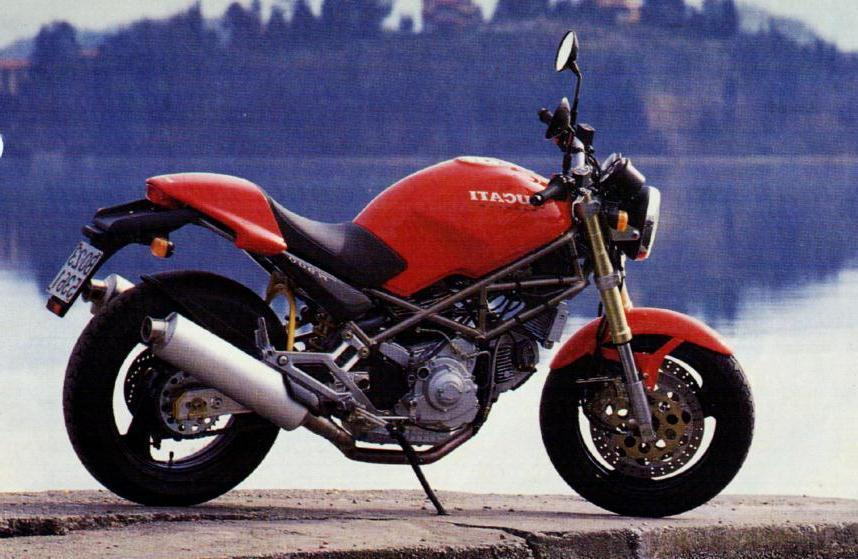motorcycle: (34, 28, 774, 531)
